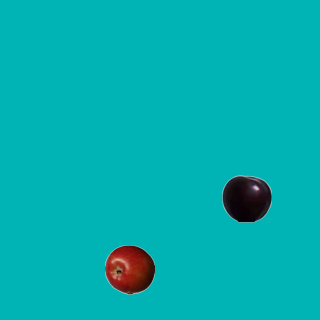Apple Braeburn: (104, 244, 154, 294)
Cherry Wax Black: (221, 173, 271, 223)
